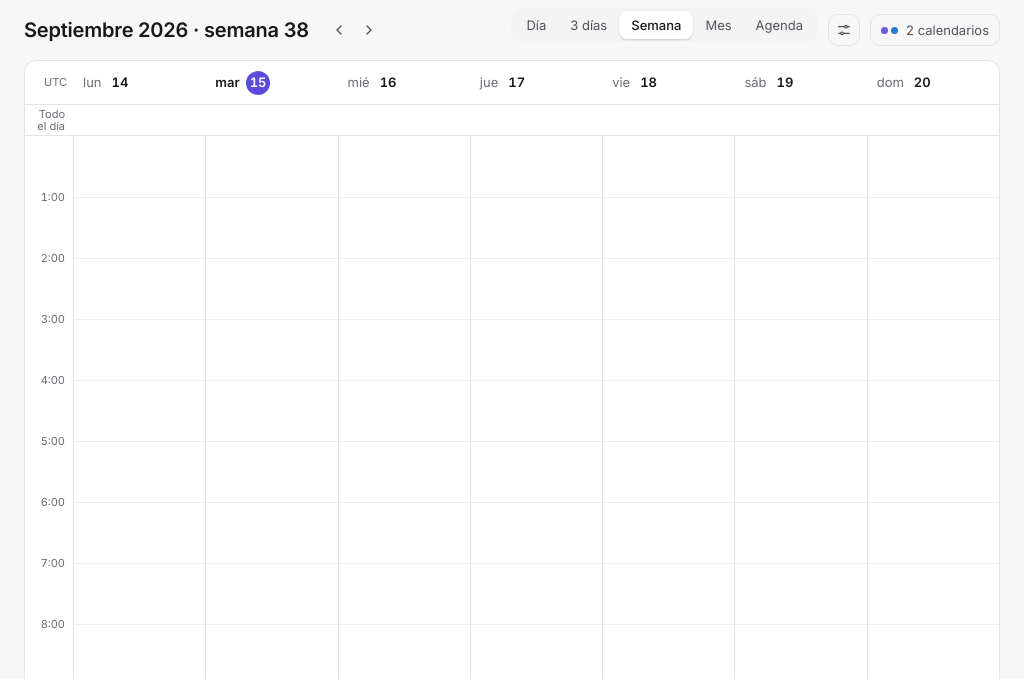
Test: the header › the filter says how many calendars there are, with one dot each
The width and height of the screenshot is (1024, 679).
Click the button "2 calendarios" at (935, 30), box top-left (870, 14), bottom-right (1000, 46)
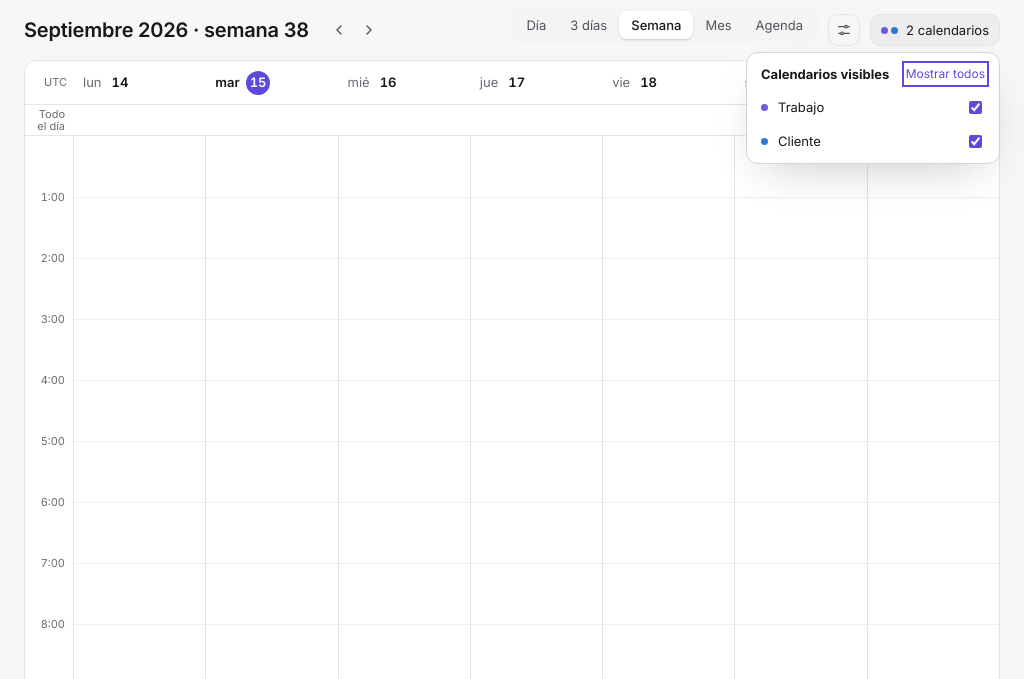
Click the checkbox labelled "Cliente" at (976, 141), box top-left (969, 135), bottom-right (982, 148)
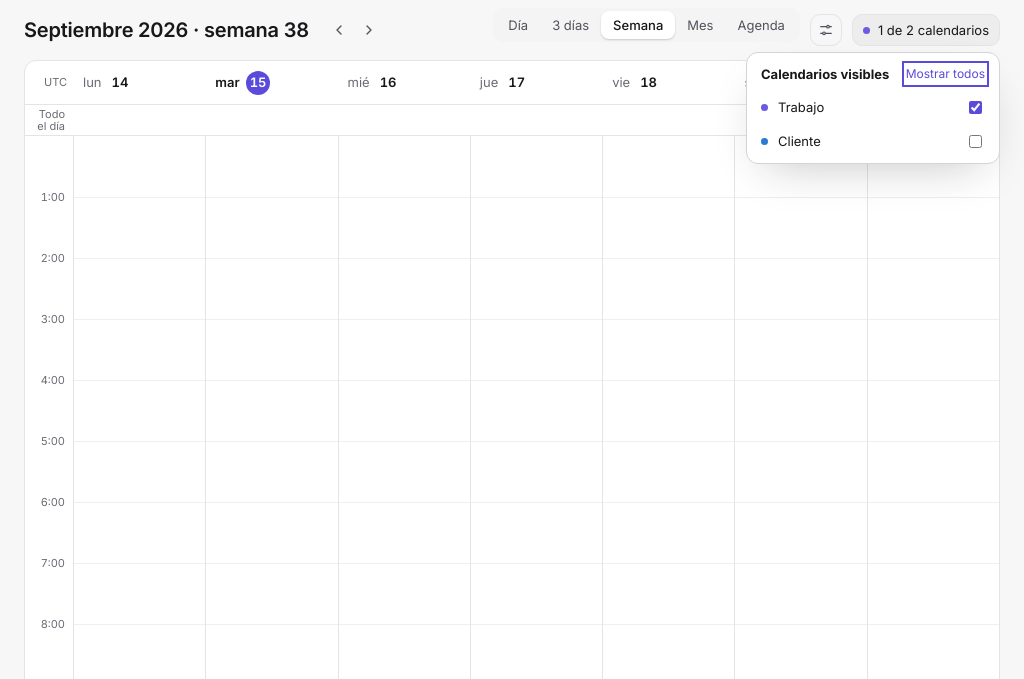
Now the button "1 de 2 calendarios" is shown, box top-left (852, 14), bottom-right (1000, 46)
